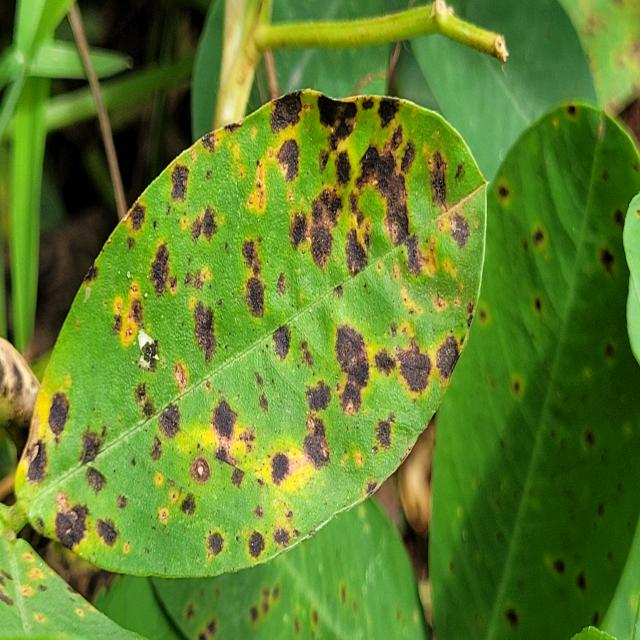Ground nut_tikka leaf spot: (15, 94, 489, 584)
